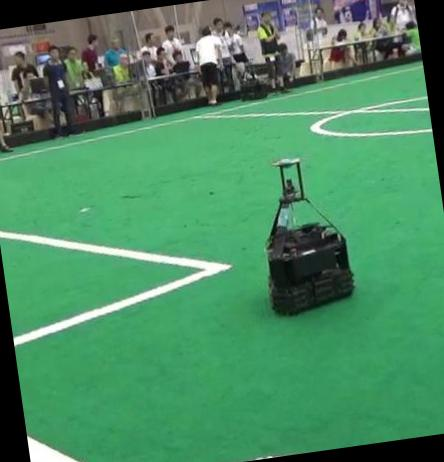person: (43, 46, 73, 136), (256, 12, 286, 91), (195, 25, 222, 104)
robot: (266, 158, 354, 314)
